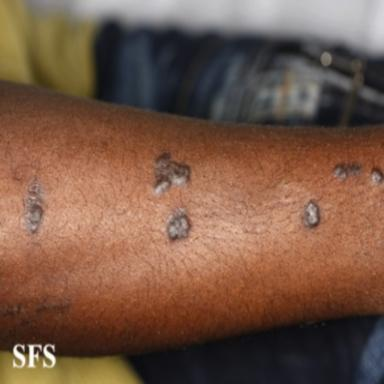lichen: (155, 152, 191, 195), (24, 178, 43, 232), (167, 208, 191, 242), (334, 163, 361, 179), (303, 201, 319, 227), (371, 168, 384, 183)
